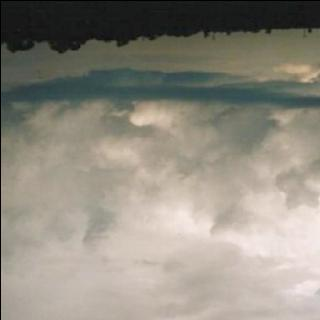Cumulonimbus: (0, 62, 320, 320)
